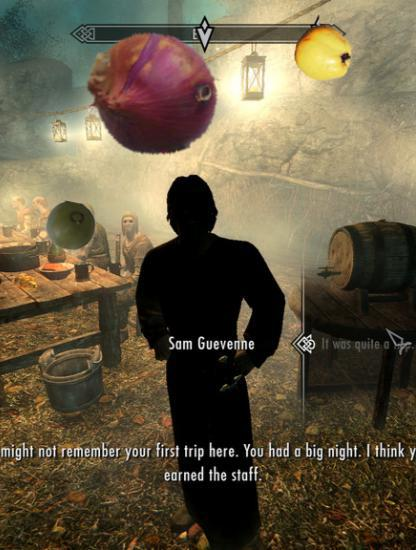Grape: (46, 201, 97, 252)
Onion: (84, 25, 222, 163)
Quince: (294, 23, 353, 82)
